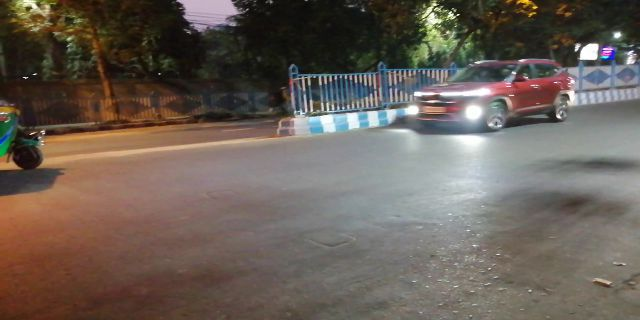Car: (408, 60, 578, 130)
